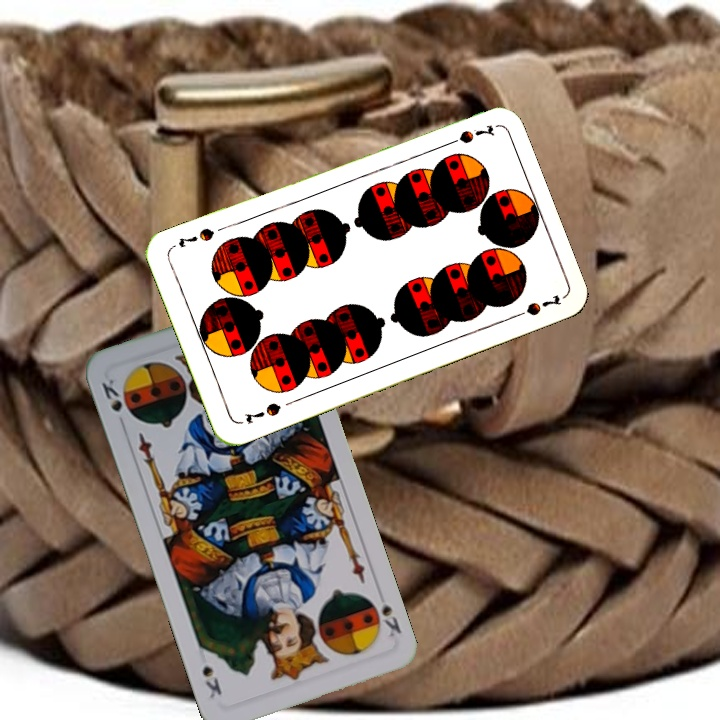S7: (440, 120, 497, 150), (240, 398, 283, 426)
SK: (364, 586, 404, 639), (97, 374, 125, 415)
